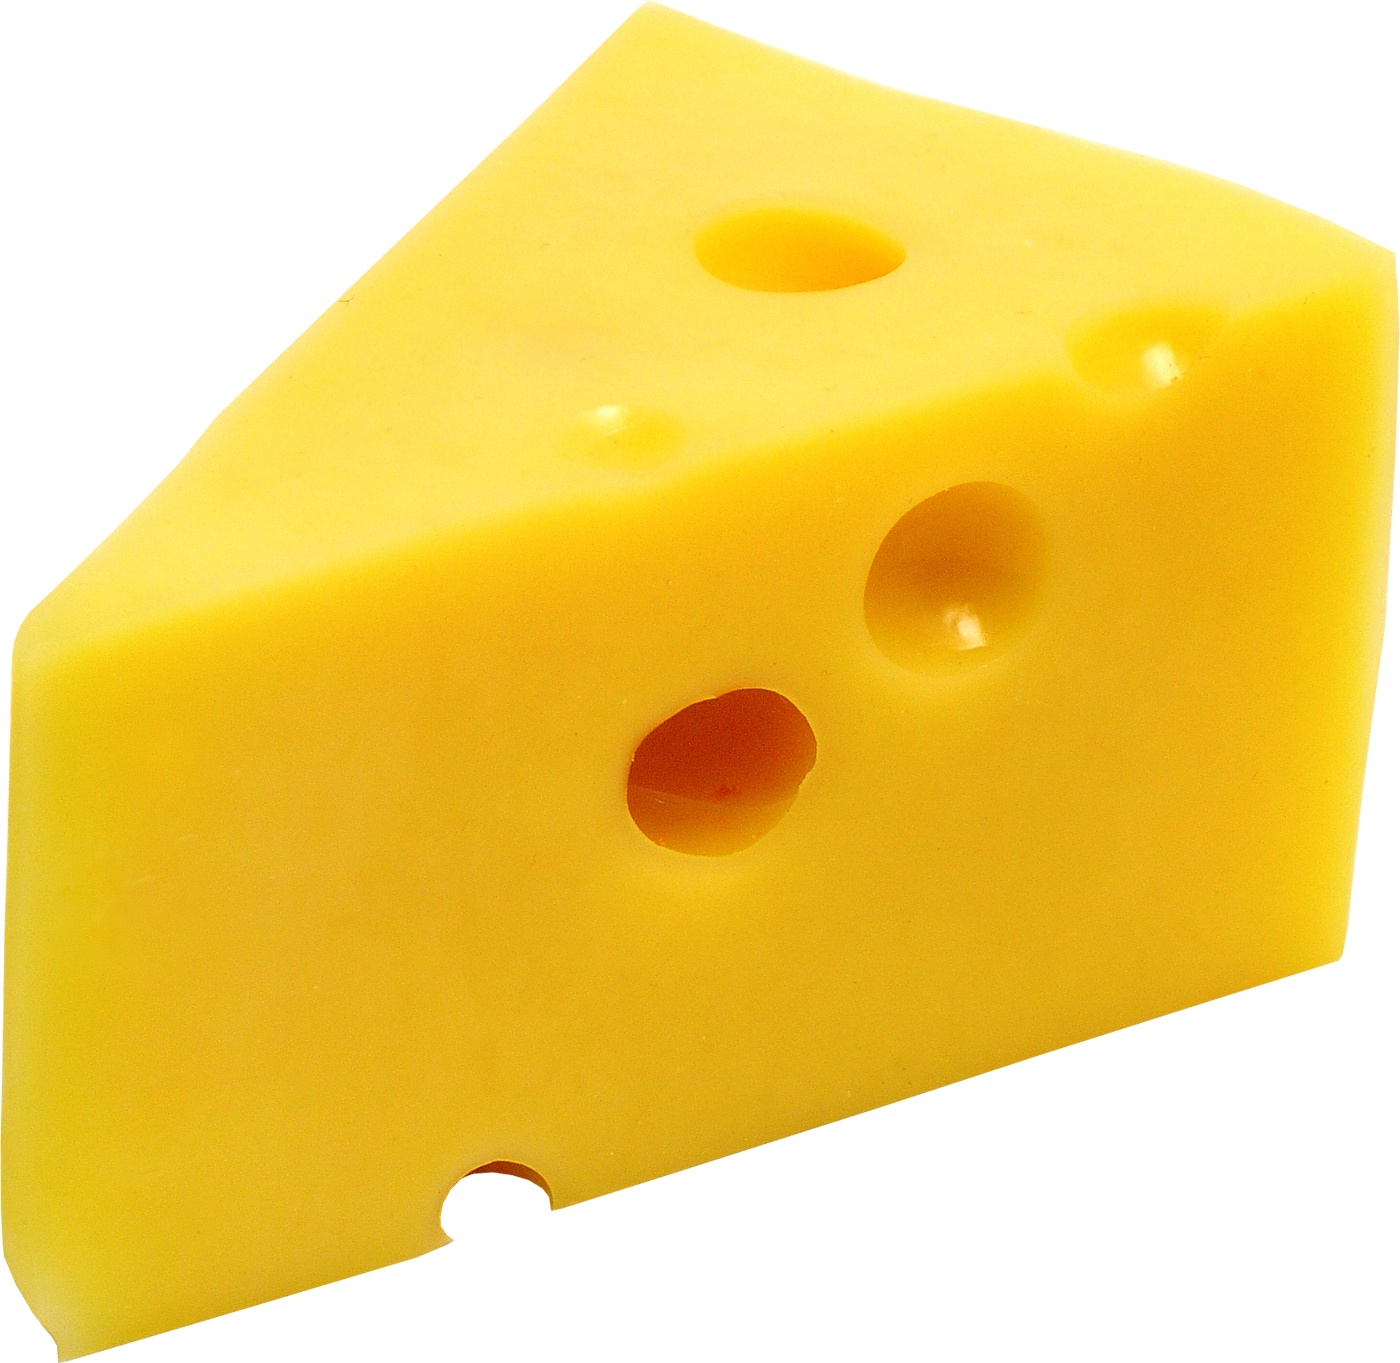Cheese: (0, 3, 1400, 1355)
